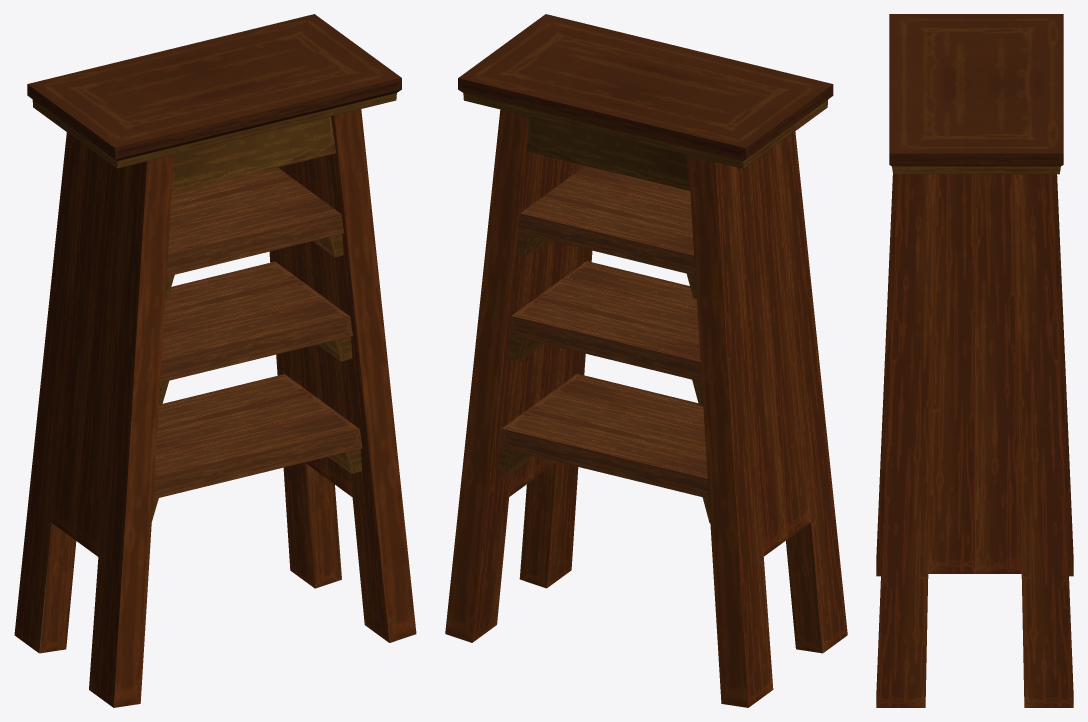
File: Nightstand Shelf.glb
The picture shows the model from 3 angles, left to right: view 1: azimuth 30°, elevation 25°; view 2: azimuth 150°, elevation 25°; view 3: azimuth 270°, elevation 25°; orthographic projection.
Parts seen in each view (by area): view 1: Nightstand_Shelf; view 2: Nightstand_Shelf; view 3: Nightstand_Shelf.
Part boxes in pixels (left/top/right/bottom): Nightstand_Shelf: left=14, top=14, right=416, bottom=707; Nightstand_Shelf: left=445, top=14, right=847, bottom=707; Nightstand_Shelf: left=876, top=14, right=1073, bottom=707.
Size of the model in its own units: 0.6933 by 1.22 by 0.3935.
Materials: 1 (1 with a texture image).
